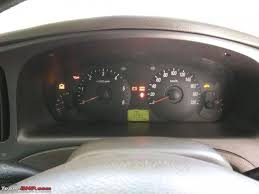Digital_Meter: (124, 108, 152, 121)
